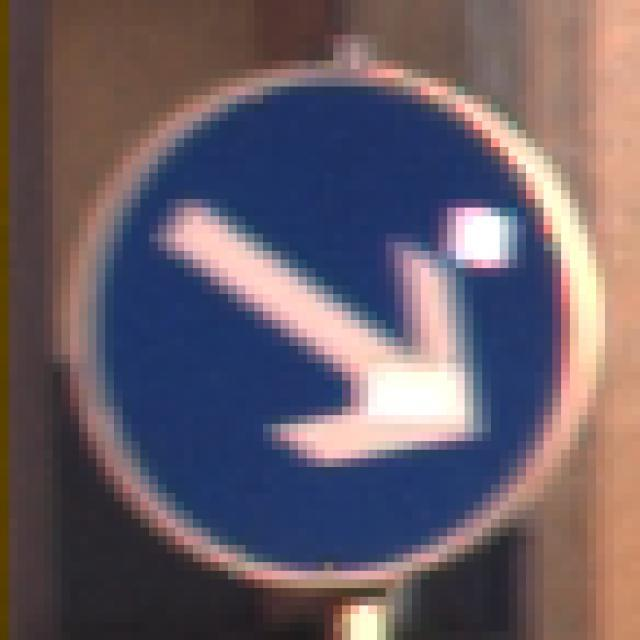compulsary keep right: (61, 58, 608, 587)
